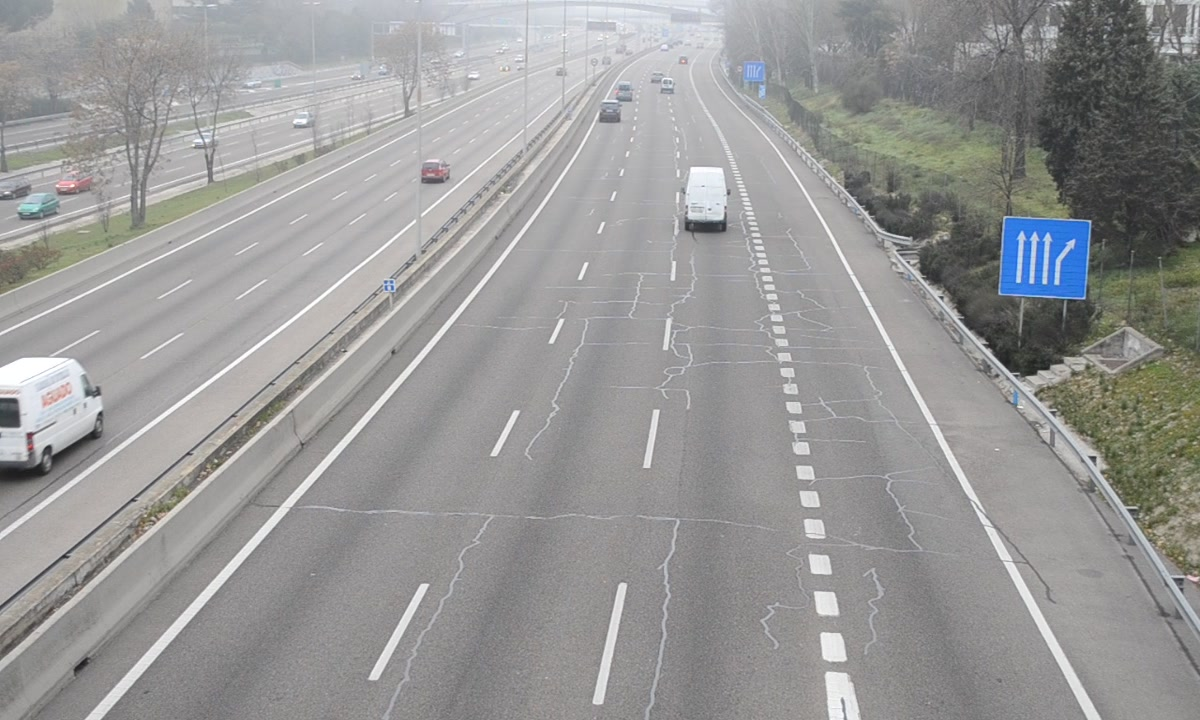car: (600, 99, 620, 121)
van: (684, 166, 730, 231)
